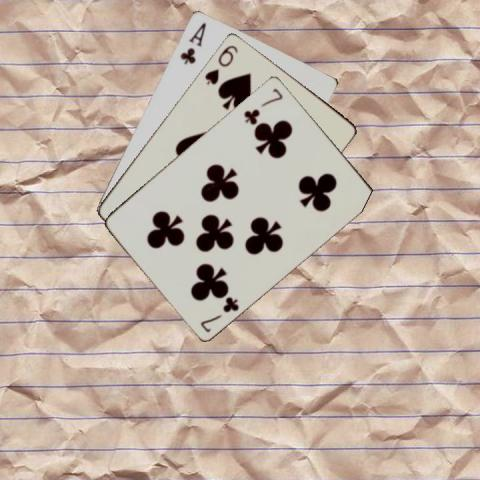6s: (201, 41, 240, 86)
7c: (241, 84, 284, 125), (197, 294, 241, 333)
Ac: (177, 19, 207, 65)
